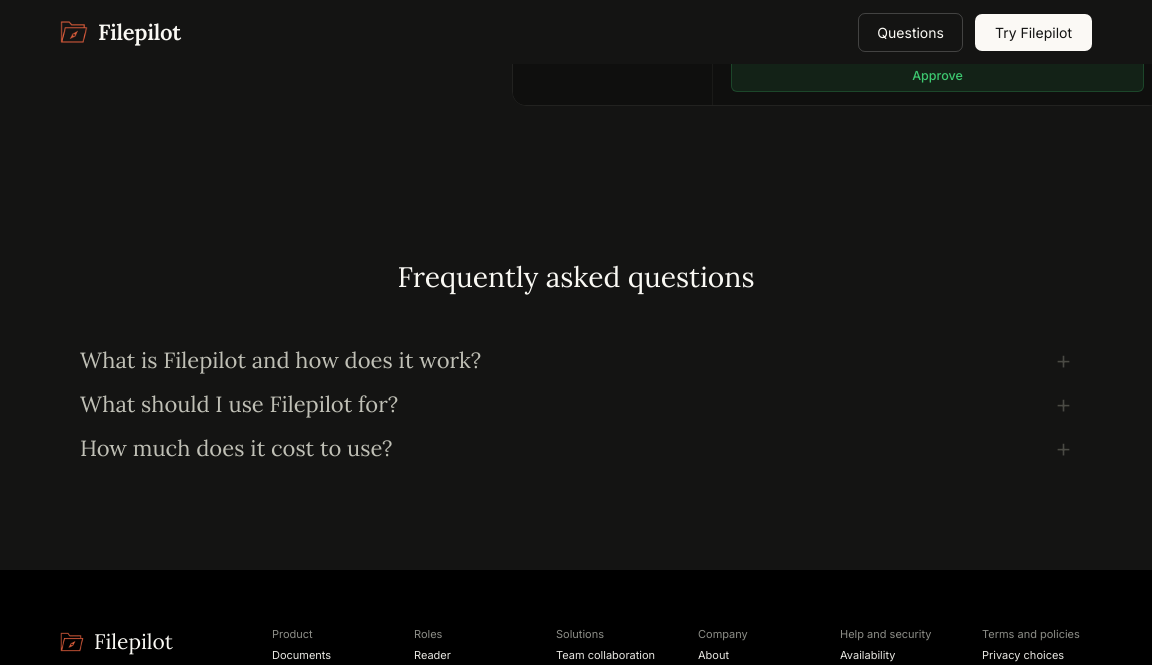
Test: LandingPage – FAQ accordion › clicking a FAQ question reveals the answer
(page scrolled)
Click the button "What is Filepilot and how does it work? +": (281, 360) [80,338,1072,382]
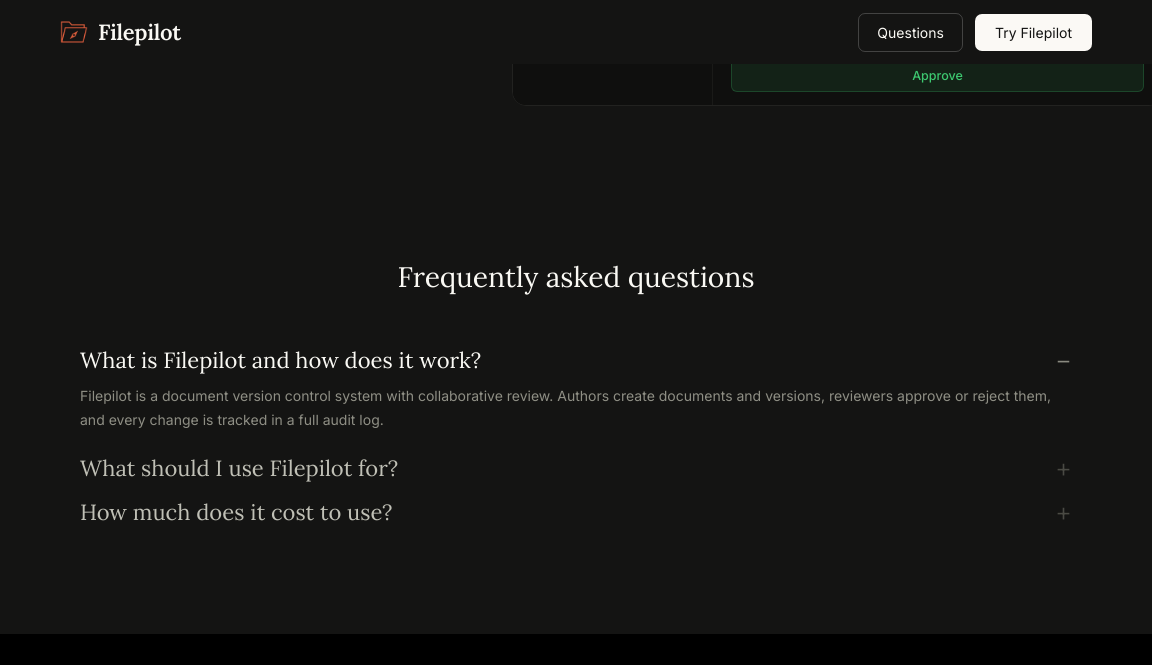
Expected: the text "document version control system" is shown, [80,387,1051,428]
